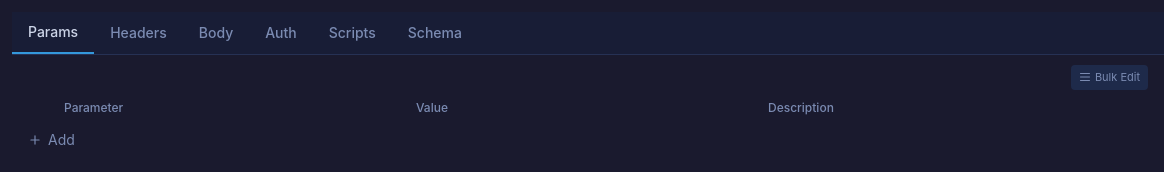
Test: RequestPanel › switching to Body tab shows body type selector including GraphQL
Click the button "Body" at coordinates (216, 33), box [183, 13, 249, 53]
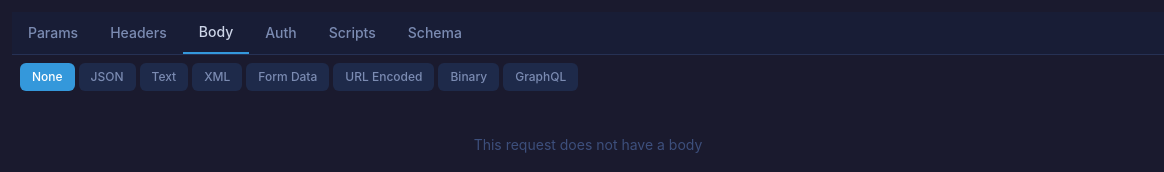
Expected: the button "JSON" is shown, [79, 63, 136, 91]
Expected: the button "Text" is shown, [140, 63, 188, 91]
Expected: the button "XML" is shown, [192, 63, 242, 91]
